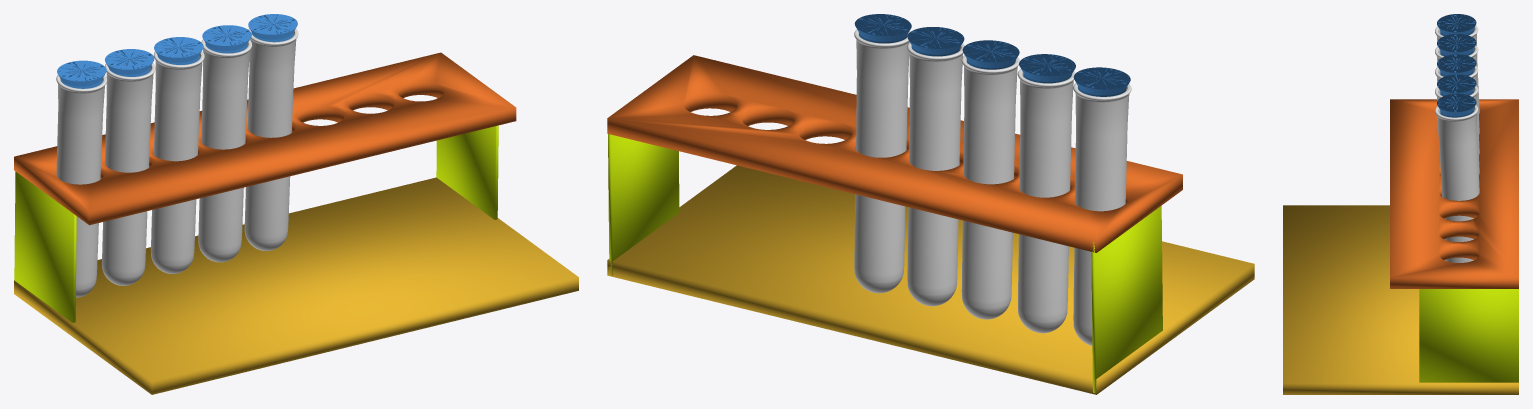
Rendered from newtesttubeholder123.glb.
The picture shows the model from 3 angles, left to right: view 1: azimuth 30°, elevation 25°; view 2: azimuth 150°, elevation 25°; view 3: azimuth 270°, elevation 25°; orthographic projection. The views are drawn at different scales.
Visible parts, largest first — view 1: Cube, Sphere.009, Sphere.011, Sphere.007, Sphere.013, Sphere.005, Sphere.016_Sphere.017, Sphere.016_Sphere.003, Sphere.016_Sphere.001, Sphere.016_Sphere.002, Sphere.016_Sphere.004; view 2: Cube, Sphere.011, Sphere.009, Sphere.007, Sphere.013, Sphere.005, Sphere.016_Sphere.017, Sphere.016_Sphere.003, Sphere.016_Sphere.002, Sphere.016_Sphere.001, Sphere.016_Sphere.004; view 3: Cube, Sphere.013, Sphere.016_Sphere.001, Sphere.016_Sphere.004, Sphere.016_Sphere.002, Sphere.016_Sphere.003, Sphere.016_Sphere.017, Sphere.007, Sphere.009, Sphere.005, Sphere.011.
Boxes of the visible parts, bbox=[...] form: Cube: bbox=[14, 52, 578, 394]; Sphere.009: bbox=[151, 51, 204, 273]; Sphere.011: bbox=[198, 39, 251, 262]; Sphere.007: bbox=[102, 63, 155, 285]; Sphere.013: bbox=[244, 28, 298, 250]; Sphere.005: bbox=[56, 75, 107, 297]; Sphere.016_Sphere.017: bbox=[202, 25, 251, 53]; Sphere.016_Sphere.003: bbox=[57, 60, 106, 88]; Sphere.016_Sphere.001: bbox=[248, 14, 297, 42]; Sphere.016_Sphere.002: bbox=[154, 37, 203, 64]; Sphere.016_Sphere.004: bbox=[105, 49, 154, 76]; Cube: bbox=[607, 55, 1254, 394]; Sphere.011: bbox=[907, 42, 964, 306]; Sphere.009: bbox=[961, 55, 1019, 319]; Sphere.007: bbox=[1017, 69, 1075, 333]; Sphere.013: bbox=[854, 29, 910, 293]; Sphere.005: bbox=[1073, 83, 1131, 345]; Sphere.016_Sphere.017: bbox=[907, 27, 964, 56]; Sphere.016_Sphere.003: bbox=[1073, 67, 1130, 96]; Sphere.016_Sphere.002: bbox=[962, 40, 1019, 69]; Sphere.016_Sphere.001: bbox=[854, 14, 911, 43]; Sphere.016_Sphere.004: bbox=[1019, 54, 1075, 83]; Cube: bbox=[1283, 99, 1518, 394]; Sphere.013: bbox=[1435, 105, 1479, 262]; Sphere.016_Sphere.001: bbox=[1437, 93, 1476, 117]; Sphere.016_Sphere.004: bbox=[1437, 34, 1476, 56]; Sphere.016_Sphere.002: bbox=[1437, 54, 1476, 76]; Sphere.016_Sphere.003: bbox=[1437, 14, 1476, 35]; Sphere.016_Sphere.017: bbox=[1437, 74, 1476, 96]; Sphere.007: bbox=[1435, 45, 1479, 133]; Sphere.009: bbox=[1435, 66, 1479, 154]; Sphere.005: bbox=[1435, 25, 1479, 113]; Sphere.011: bbox=[1435, 86, 1479, 174].
Bounding box in the file's own units: 0.1993 × 0.1081 × 0.1115.
